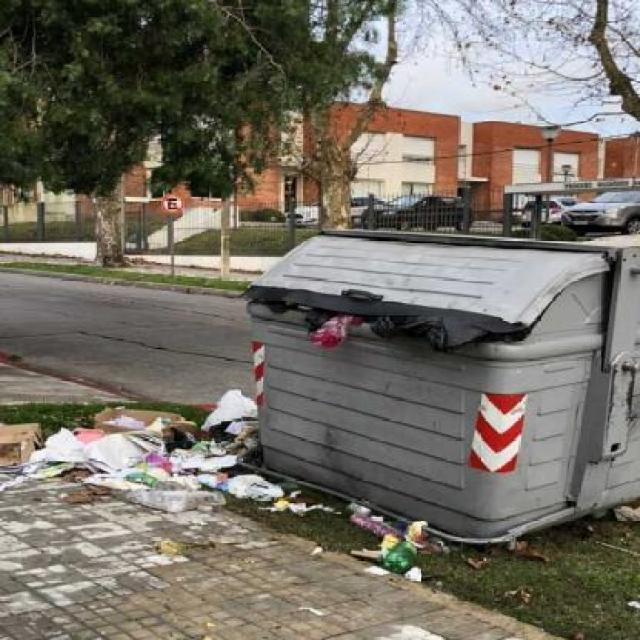garbage: (208, 380, 449, 569), (0, 392, 282, 516), (263, 301, 508, 354), (137, 532, 231, 570)
